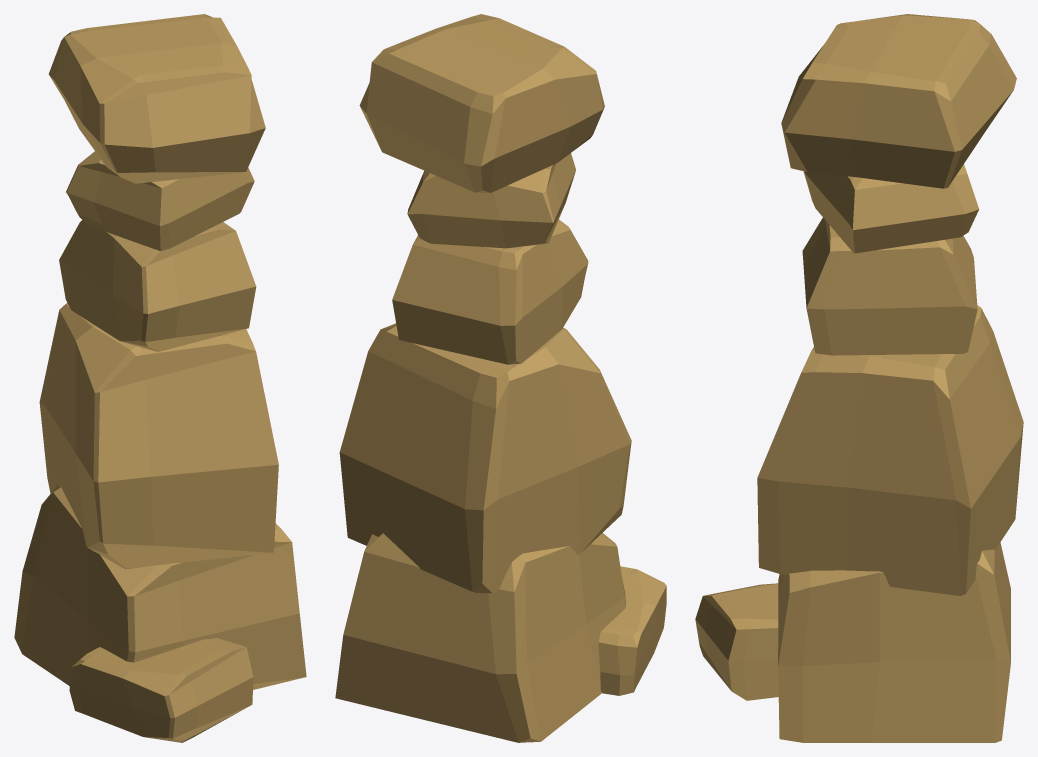
Rendered from Desert_Stone_Piller.fbx.
3 views of the same model, side by side, from view 1: azimuth 30°, elevation 25°; view 2: azimuth 150°, elevation 25°; view 3: azimuth 270°, elevation 25° (orthographic). The views are drawn at different scales.
Parts seen in each view (by area): view 1: Desert_Stone_Piller; view 2: Desert_Stone_Piller; view 3: Desert_Stone_Piller.
Part boxes in pixels (box(x1,y1,x2,y2)): Desert_Stone_Piller: box(14, 14, 306, 742); Desert_Stone_Piller: box(335, 14, 666, 742); Desert_Stone_Piller: box(695, 14, 1023, 742).
Size of the model in its own units: 254 by 307 by 670.
